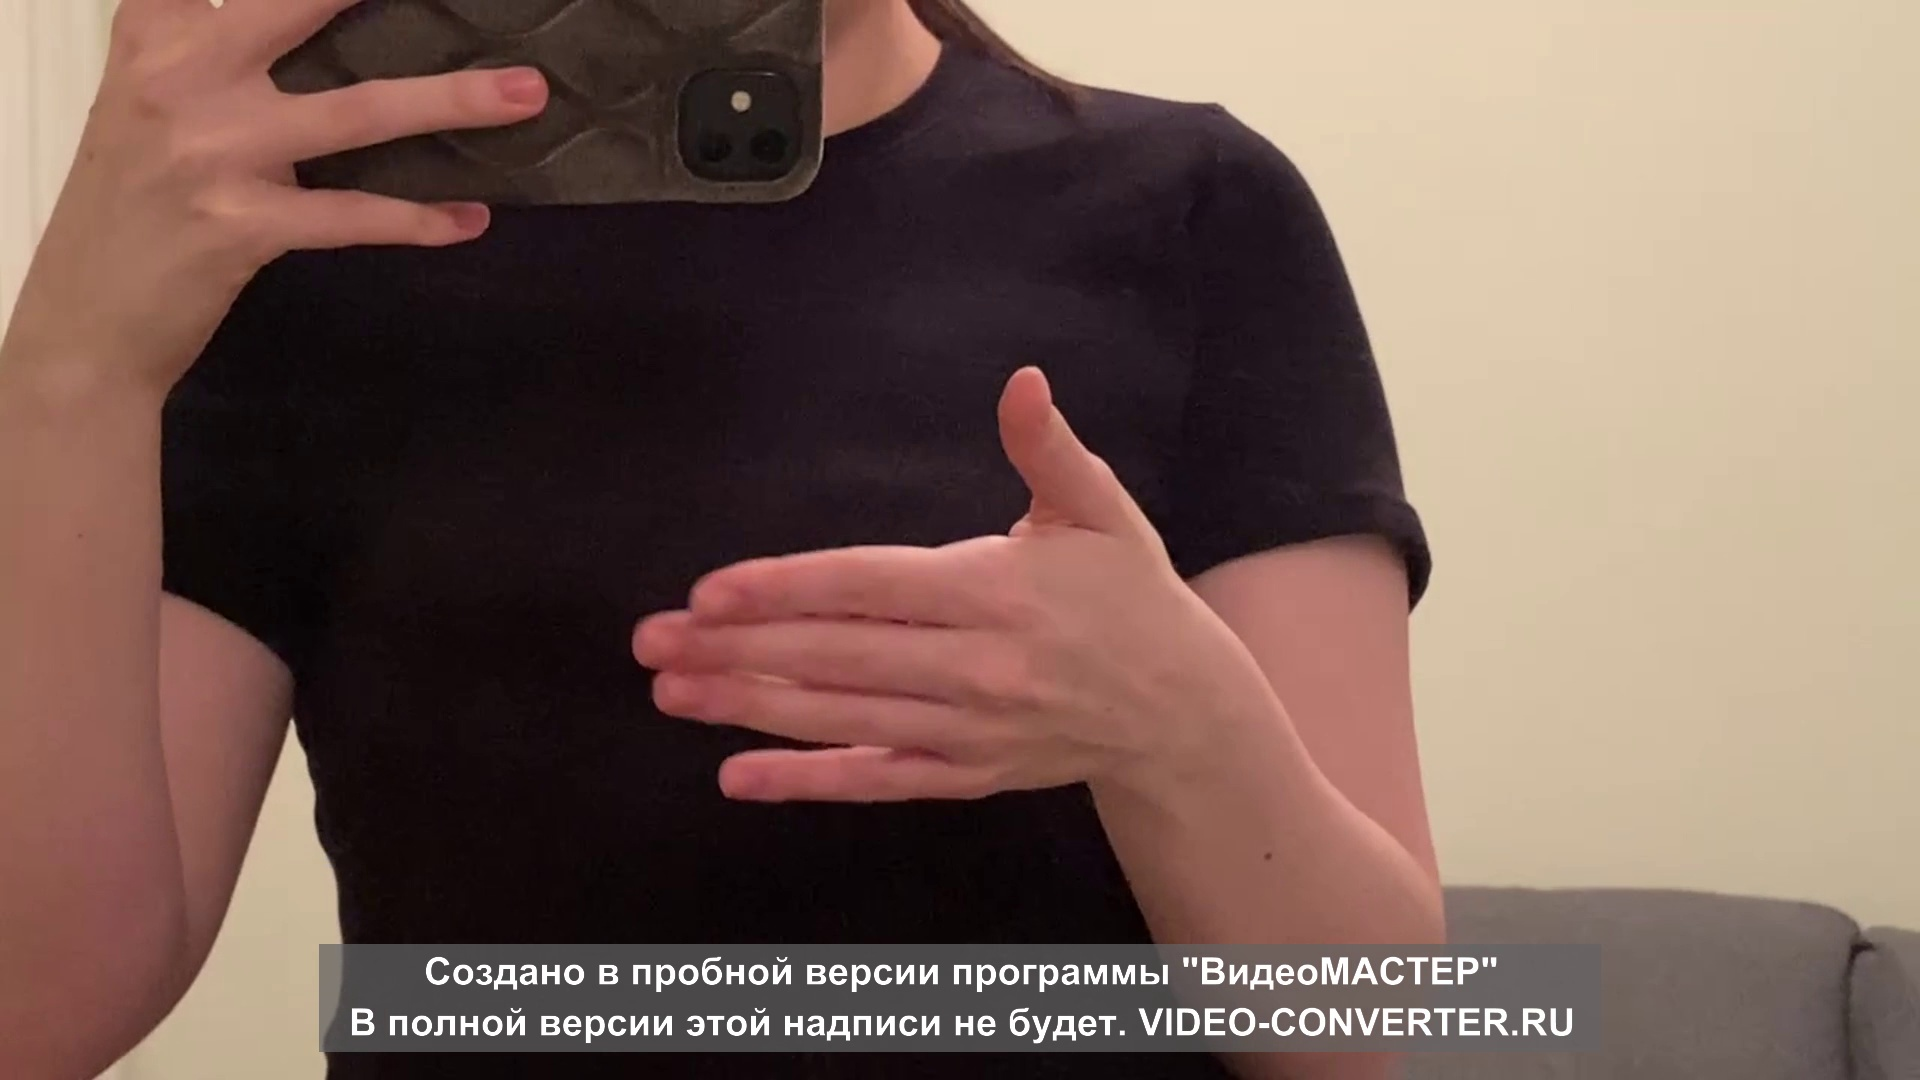Кисть: (636, 363, 1191, 804)
